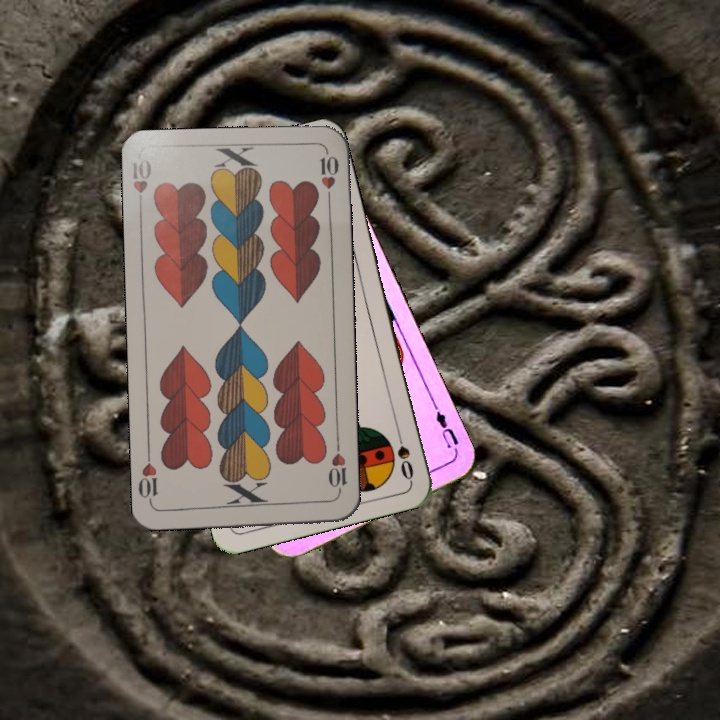EU: (431, 403, 462, 451)
H10: (324, 439, 350, 498), (128, 155, 154, 214)
SO: (392, 424, 416, 483)
